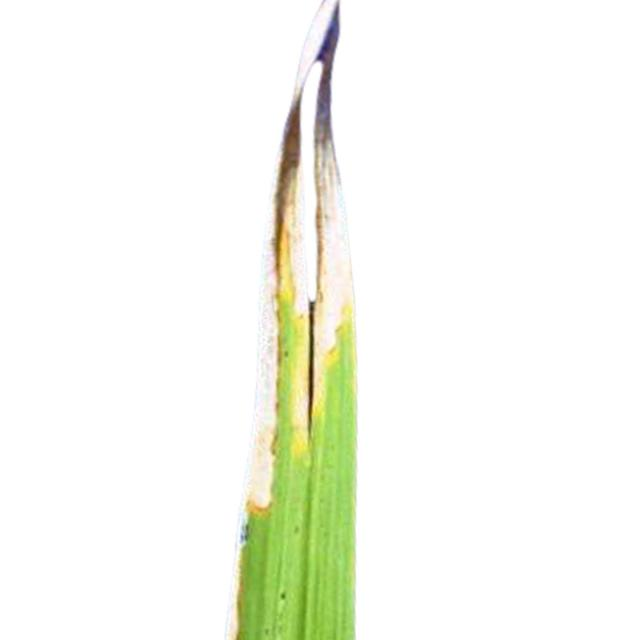Leaf scald: (179, 7, 436, 640)
